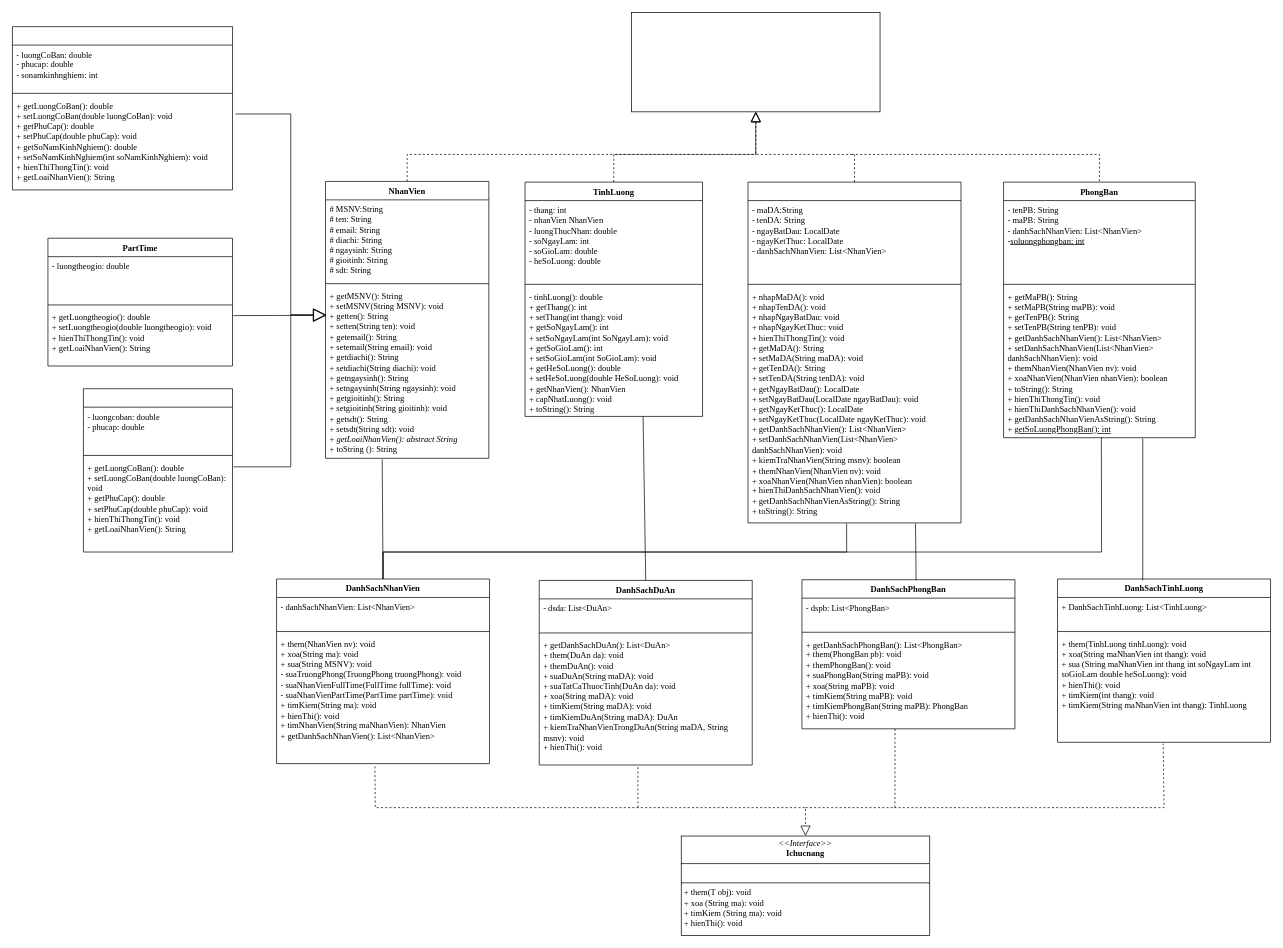
Some shapes in this 1283 by 948 pixel diagram are drawn without their labels. The box of each missing label's shape, as (x1, y1, x2, y2) in pixels:
<<Interface>> Ithongtin + hienThiThongTin(): void + toString (): String: (631, 12, 880, 112)
DuAn: (747, 181, 961, 523)
FullTime: (83, 388, 233, 552)
TruongPhong: (12, 26, 233, 190)
